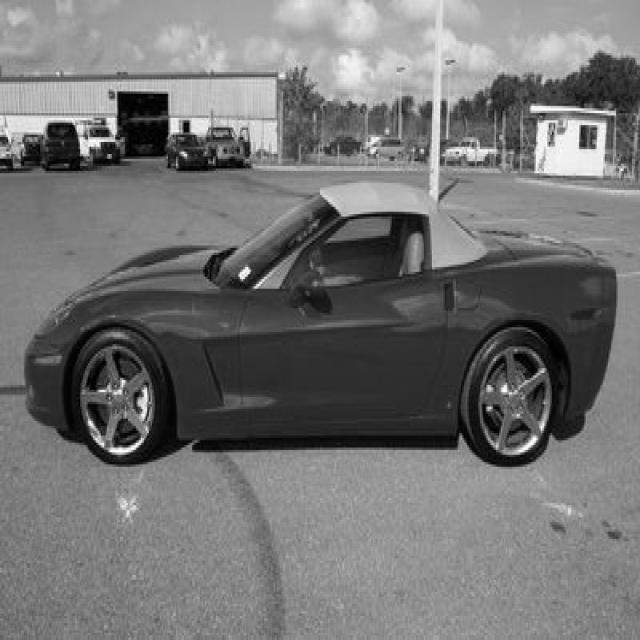car: (22, 178, 620, 467), (73, 123, 125, 167), (201, 126, 250, 168), (444, 137, 499, 167)
